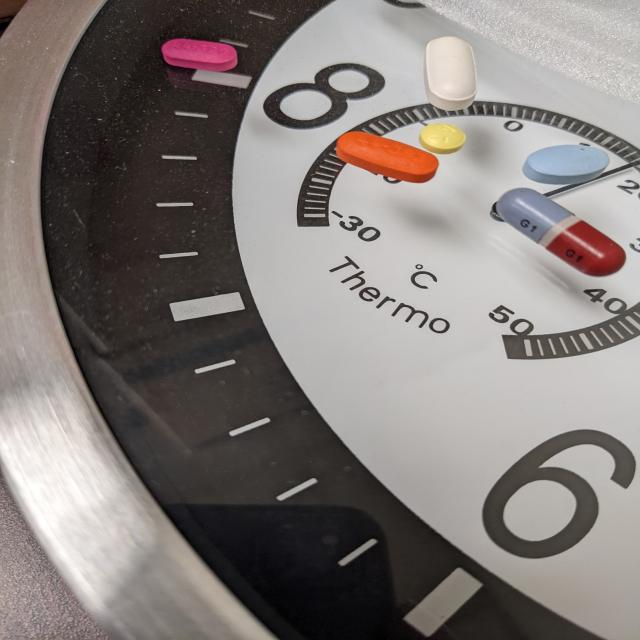non-organic waste: (495, 186, 628, 278), (335, 130, 439, 185), (423, 35, 478, 112), (521, 144, 611, 186), (161, 37, 239, 73), (418, 122, 467, 155)
